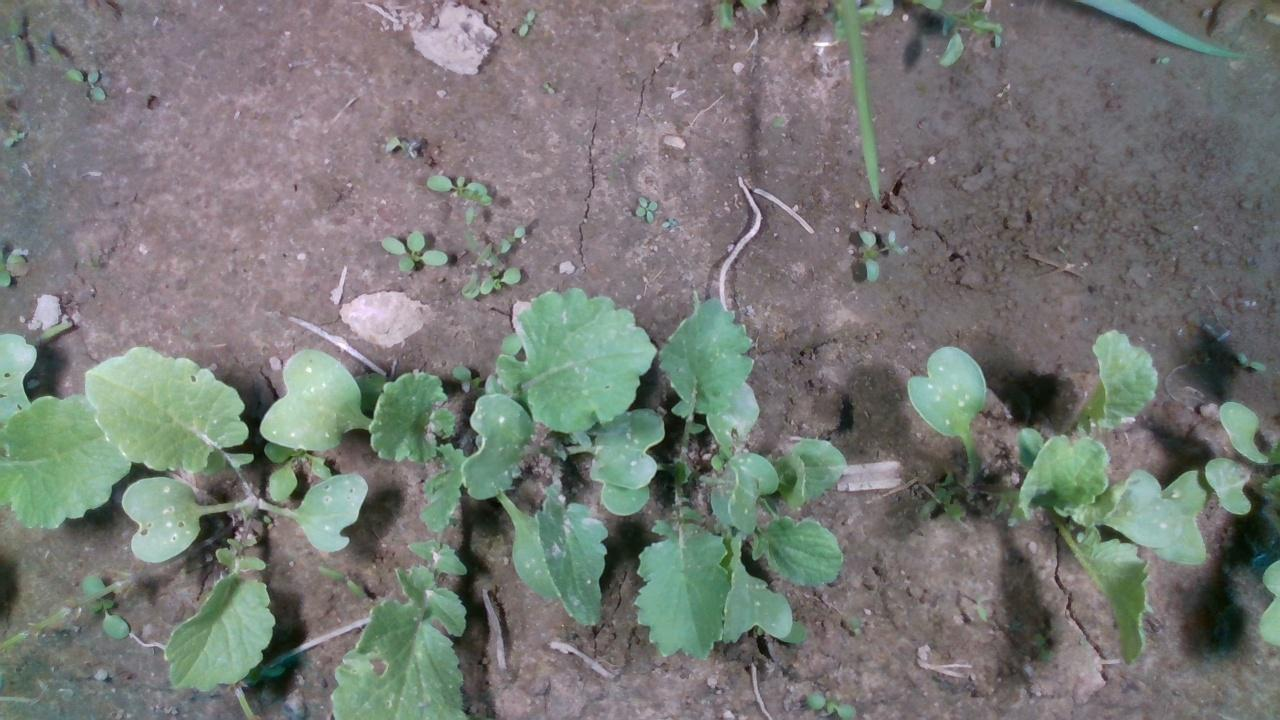weed: (378, 229, 447, 273), (61, 67, 105, 101), (804, 691, 856, 718), (857, 227, 880, 282), (1234, 349, 1266, 371), (633, 195, 658, 221), (517, 7, 535, 36), (886, 227, 904, 254), (539, 81, 555, 96), (1152, 54, 1170, 64)
